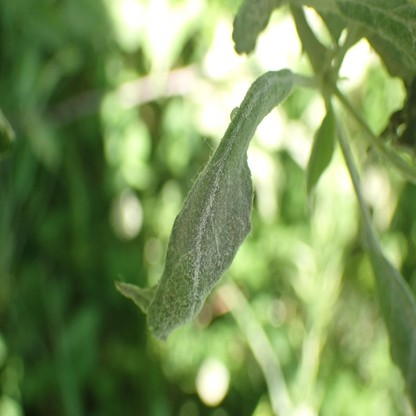powder: (112, 69, 295, 343), (245, 2, 269, 41)
